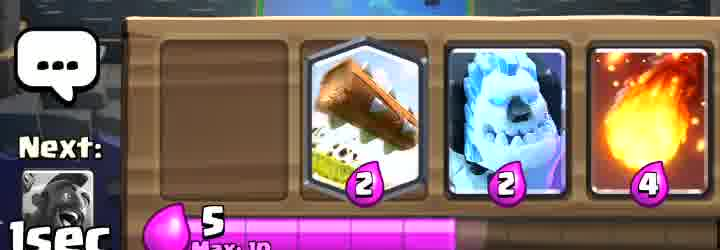fireball: (596, 47, 710, 192)
hog-rider: (21, 170, 90, 232)
ice-golem: (447, 52, 561, 198)
log: (311, 43, 423, 191)
